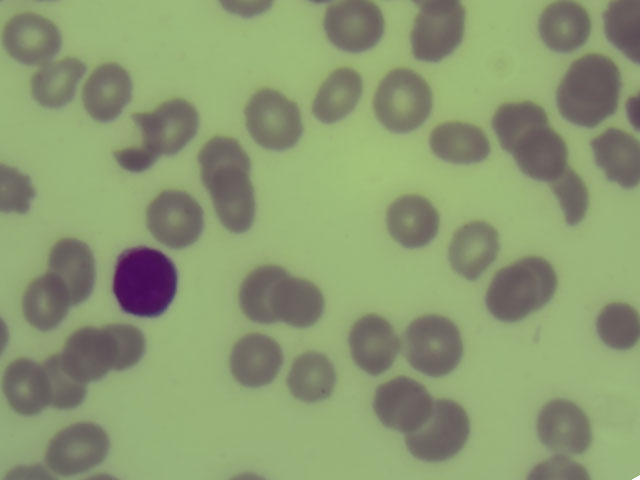RBC: (409, 398, 477, 461), (371, 68, 433, 132), (408, 312, 469, 376), (408, 2, 469, 63), (247, 85, 305, 148), (445, 218, 504, 278), (45, 238, 96, 302), (143, 95, 199, 152), (310, 68, 365, 126), (534, 401, 594, 454), (322, 5, 387, 53), (350, 314, 396, 380), (147, 193, 203, 246), (373, 379, 431, 430), (2, 15, 64, 62), (236, 268, 288, 324), (193, 142, 253, 190), (233, 335, 285, 390), (81, 66, 133, 120), (590, 132, 640, 188), (491, 269, 543, 321), (431, 122, 491, 167), (538, 2, 587, 55), (100, 322, 150, 373), (216, 170, 257, 231), (32, 59, 83, 108), (55, 422, 106, 471), (509, 252, 557, 304), (62, 332, 111, 382), (391, 197, 438, 248), (290, 352, 336, 404), (284, 273, 326, 328), (40, 358, 84, 410), (553, 171, 595, 225), (603, 3, 640, 63), (521, 136, 569, 182), (1, 158, 35, 222), (24, 277, 67, 327), (597, 300, 640, 350), (7, 363, 45, 419), (574, 59, 621, 103), (494, 107, 543, 147), (525, 456, 587, 480), (113, 144, 158, 172), (217, 1, 277, 19), (1, 462, 55, 480), (1, 316, 14, 354), (630, 94, 640, 135), (225, 472, 274, 480)
WBC: (113, 247, 179, 320)
